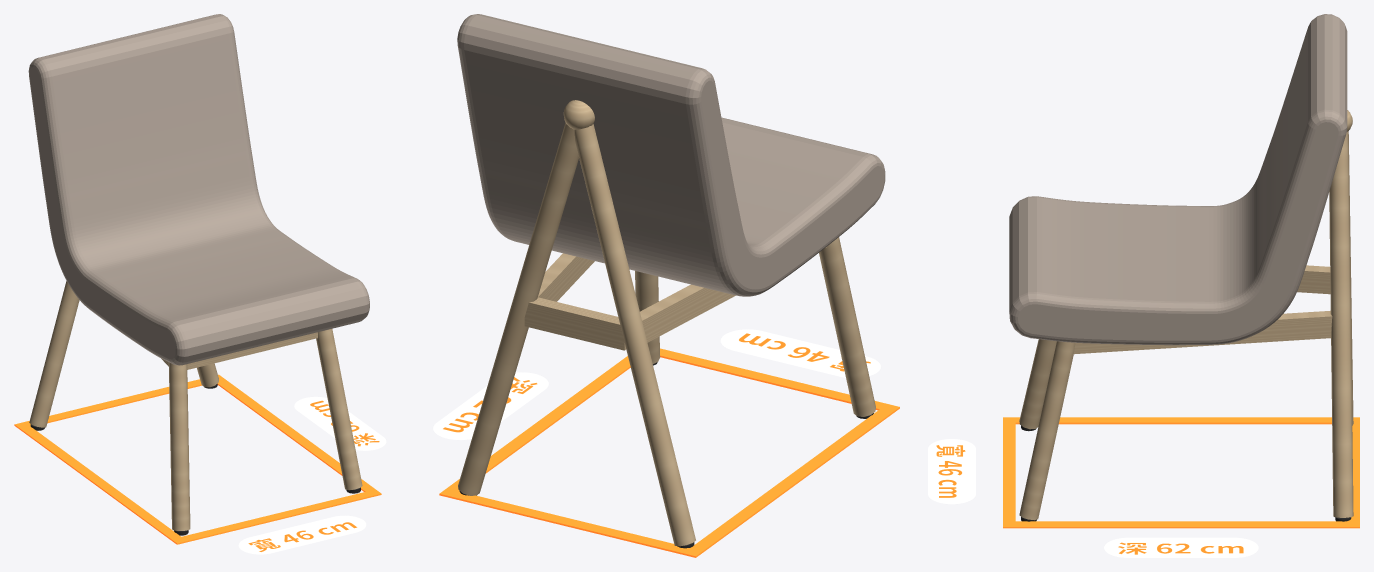
File: ownVChair-f.glb
3 views of the same model, side by side, from view 1: azimuth 30°, elevation 25°; view 2: azimuth 150°, elevation 25°; view 3: azimuth 270°, elevation 25° (orthographic). The views are drawn at different scales.
Visible parts, largest first — view 1: object 1, ar-frame, object 6, object 8, object 10, object 3; view 2: object 1, ar-frame, object 10, object 12, object 6, object 2, object 4, object 5, object 8, object 14; view 3: object 1, ar-frame, object 12, object 8, object 5, object 6, object 4.
Part boxes in pixels (left/top/right/bottom): object 1: left=28, top=14, right=369, bottom=365; ar-frame: left=14, top=374, right=386, bottom=554; object 6: left=168, top=362, right=190, bottom=530; object 8: left=316, top=329, right=362, bottom=490; object 10: left=29, top=281, right=79, bottom=427; object 3: left=187, top=332, right=317, bottom=369; object 1: left=457, top=14, right=885, bottom=296; ar-frame: left=433, top=329, right=899, bottom=557; object 10: left=574, top=124, right=695, bottom=546; object 12: left=458, top=123, right=578, bottom=495; object 6: left=819, top=237, right=875, bottom=416; object 2: left=524, top=297, right=625, bottom=350; object 4: left=640, top=247, right=826, bottom=342; object 5: left=538, top=253, right=594, bottom=301; object 8: left=635, top=271, right=660, bottom=363; object 14: left=563, top=100, right=594, bottom=129; object 1: left=1009, top=14, right=1347, bottom=345; ar-frame: left=928, top=417, right=1359, bottom=557; object 12: left=1329, top=131, right=1353, bottom=517; object 8: left=1019, top=341, right=1075, bottom=520; object 5: left=1074, top=310, right=1332, bottom=354; object 6: left=1019, top=339, right=1056, bottom=429; object 4: left=1297, top=265, right=1330, bottom=294.
Bounding box in the file's own units: 0.6266 × 0.852 × 0.8104.
6 materials, 3 textured.
